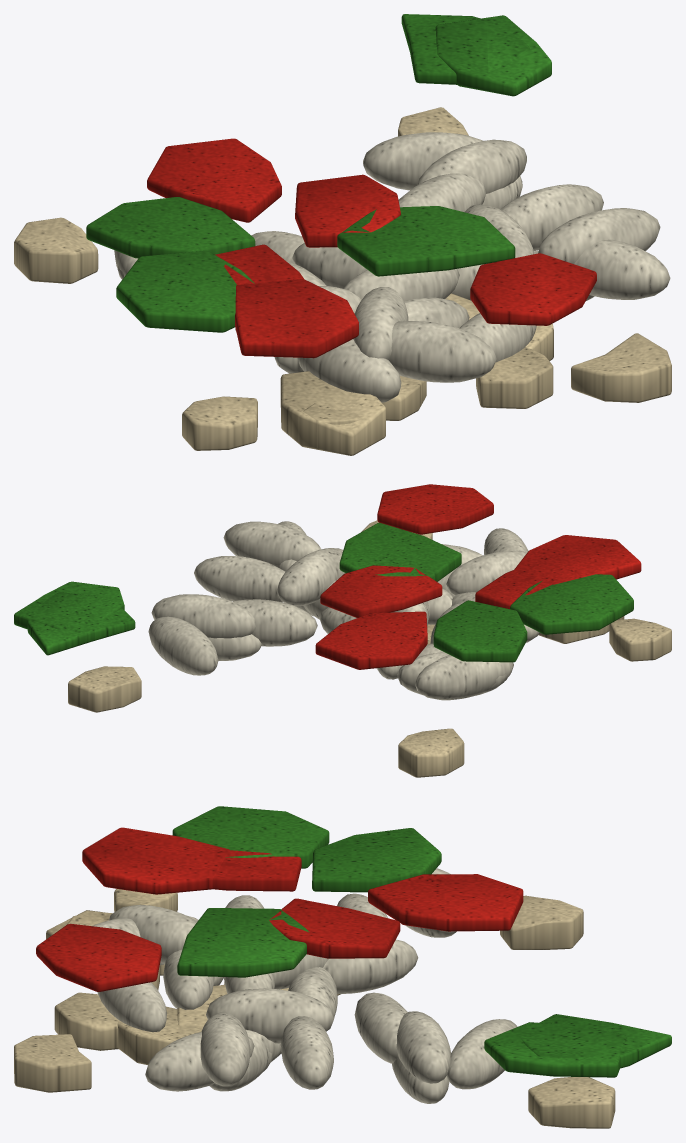
File: food-10-full.glb
3 views of the same model, one above another, from view 1: azimuth 30°, elevation 25°; view 2: azimuth 150°, elevation 25°; view 3: azimuth 270°, elevation 25° (orthographic). The views are drawn at different scales.
Visible parts, largest first — view 1: Food; view 2: Food; view 3: Food.
Part boxes in pixels (x1,y1,x2,y2): Food: (14,14,671,455); Food: (14,484,671,777); Food: (14,806,671,1128).
Size of the model in its own units: 0.5917 by 0.1028 by 0.6358.
Materials: 1 (1 with a texture image).
